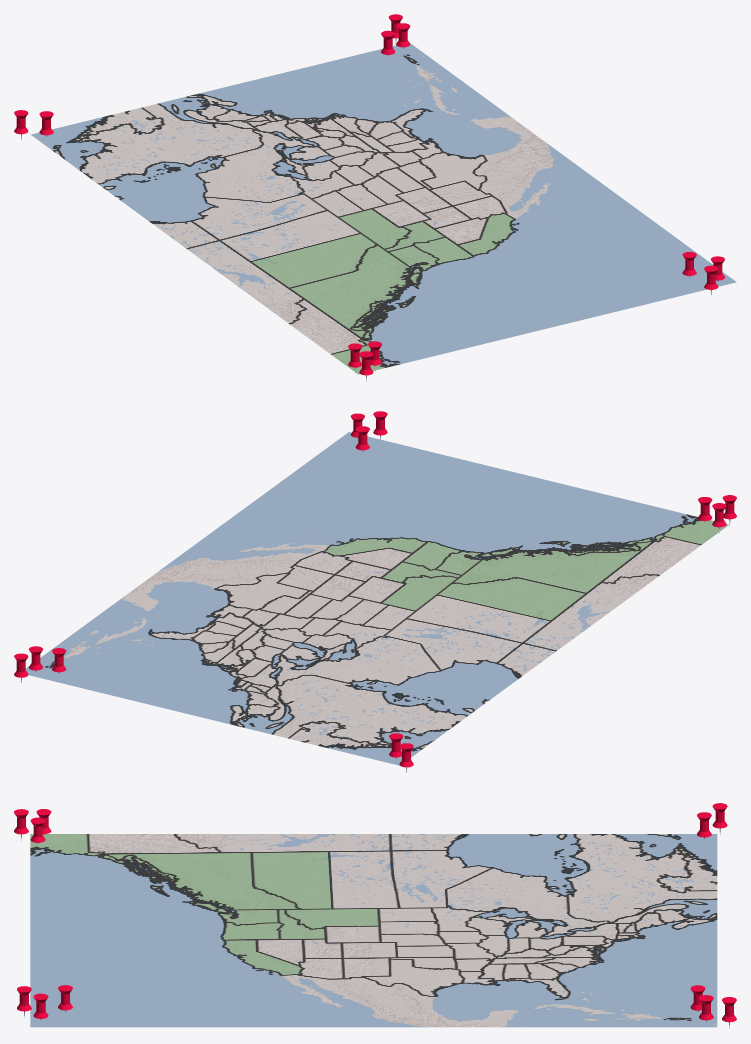
File: region-map-3.glb
3 views of the same model, one above another, from view 1: azimuth 30°, elevation 25°; view 2: azimuth 150°, elevation 25°; view 3: azimuth 270°, elevation 25° (orthographic). The views are drawn at different scales.
Visible parts, largest first — view 1: Plane; view 2: Plane; view 3: Plane.
Part boxes in pixels (left/top/right/bottom): Plane: left=31, top=43, right=736, bottom=374; Plane: left=25, top=432, right=728, bottom=765; Plane: left=30, top=834, right=717, bottom=1027.
Size of the model in its own units: 2.07 by 0.1437 by 3.16.
Materials: 3 (1 with a texture image).
